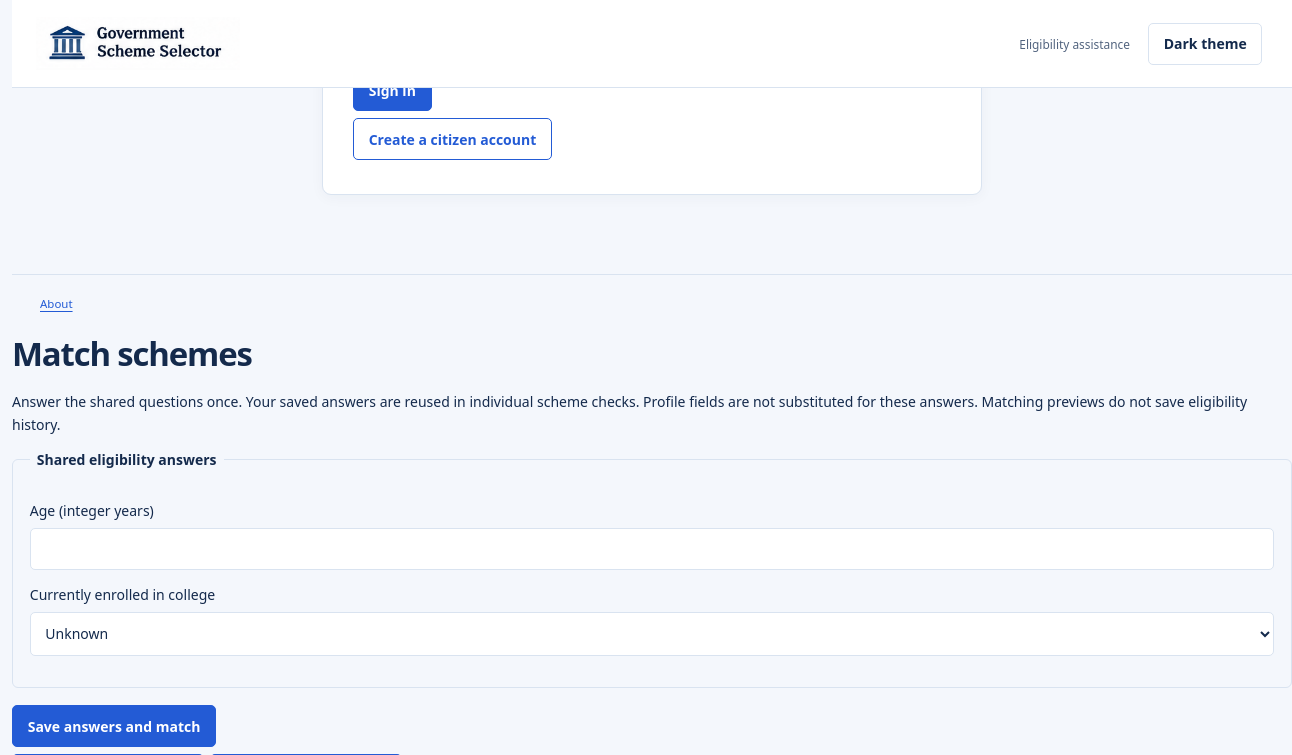
reports conflicts without retrying, retains edits and does not preview failed saves
The image size is (1292, 755).
(page scrolled)
Type "22" into the number field labelled "Age (integer years)".
click(652, 549); type("22")  # box [30,528,1274,570]
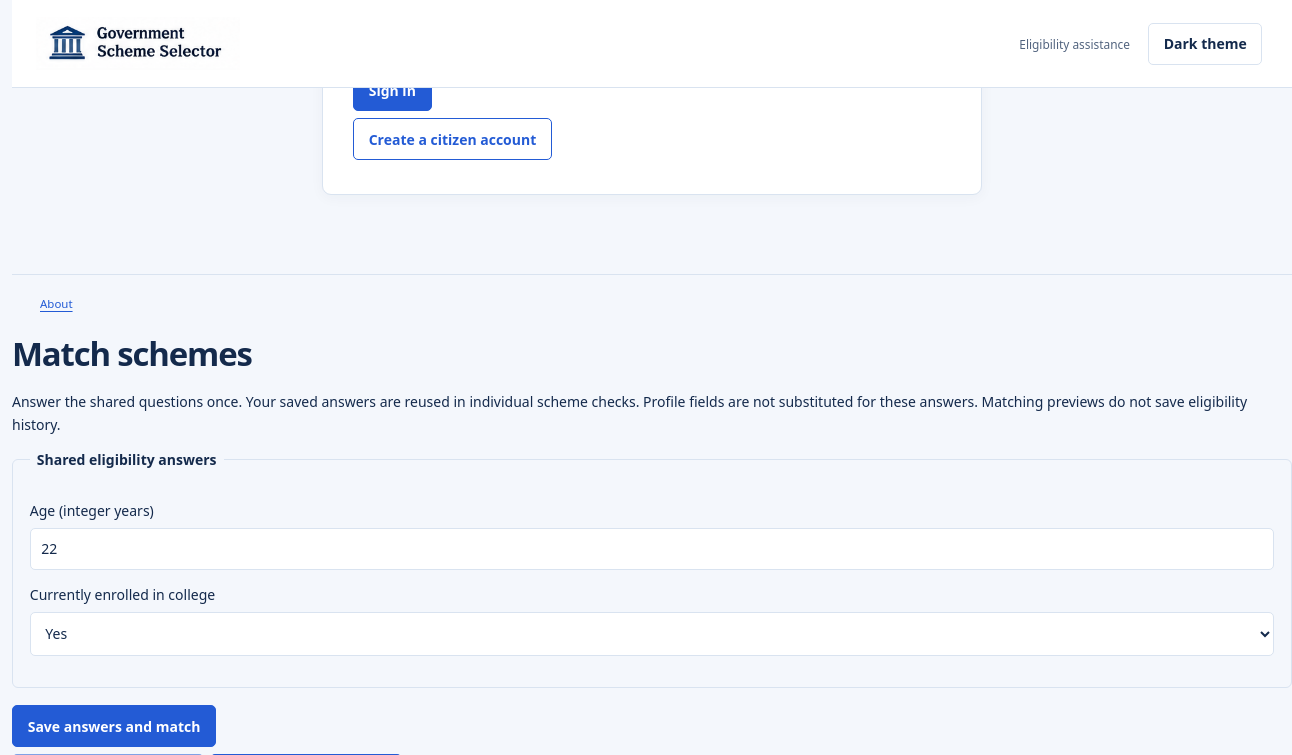
Click the button "Save answers and match".
click(114, 726)  # box [12,705,216,747]
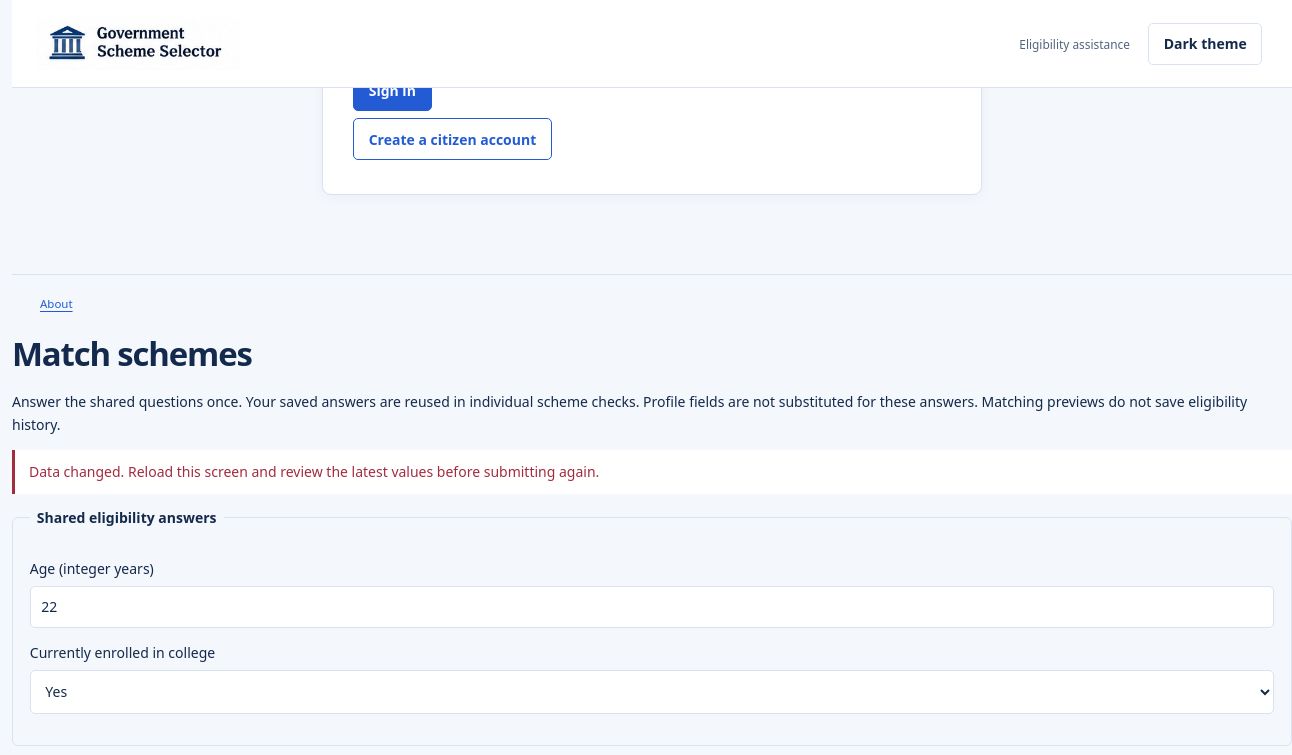
Result: the message shows "Reload" at [29,462,599,482]
